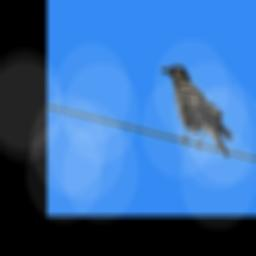Crow: (157, 64, 235, 157)
